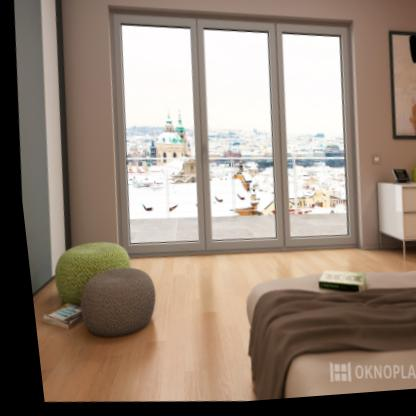Window: (90, 0, 371, 278)
